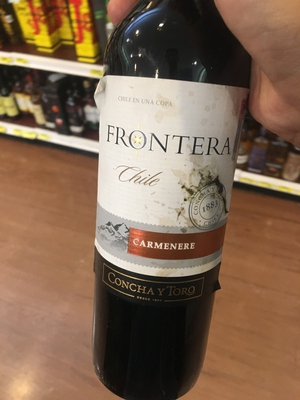frontera carmenere: (82, 12, 244, 399)
